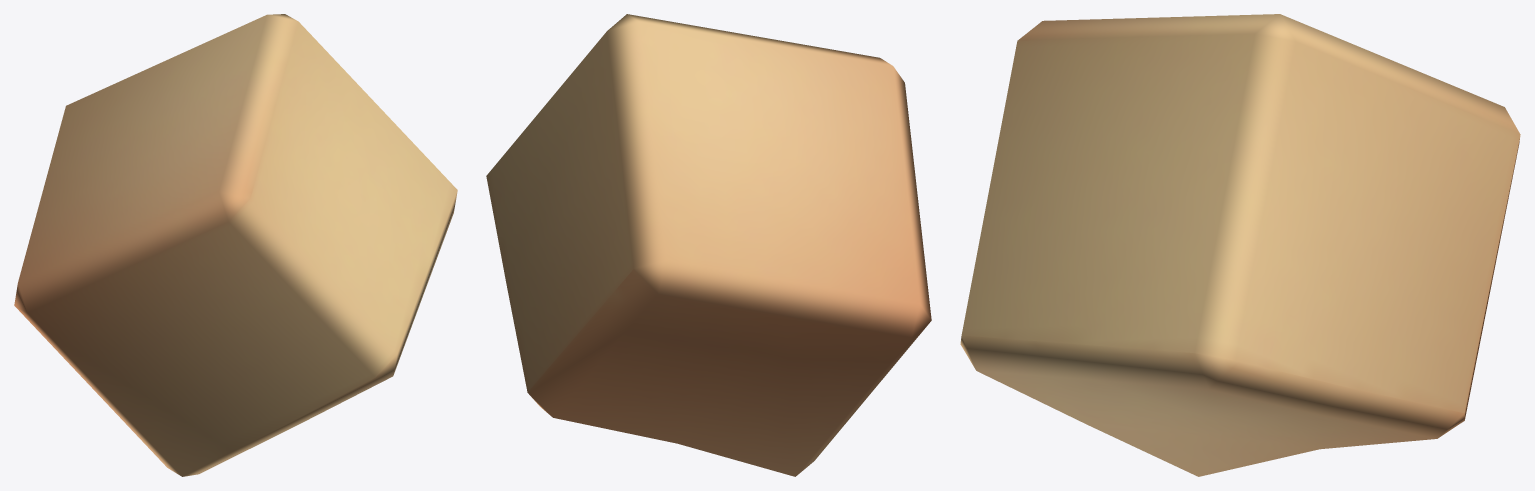
File: JapaneseRestaurant_PotBTofuB.fbx
3 views of the same model, side by side, from view 1: azimuth 30°, elevation 25°; view 2: azimuth 150°, elevation 25°; view 3: azimuth 270°, elevation 25° (orthographic). The views are drawn at different scales.
Visible parts, largest first — view 1: JapaneseRestaurant_PotBTofuB; view 2: JapaneseRestaurant_PotBTofuB; view 3: JapaneseRestaurant_PotBTofuB.
Part boxes in pixels (x1,y1,x2,y2): JapaneseRestaurant_PotBTofuB: (14, 14, 457, 476); JapaneseRestaurant_PotBTofuB: (486, 14, 931, 476); JapaneseRestaurant_PotBTofuB: (960, 14, 1520, 476).
Size of the model in its own units: 3.2 by 3.04 by 2.94.
